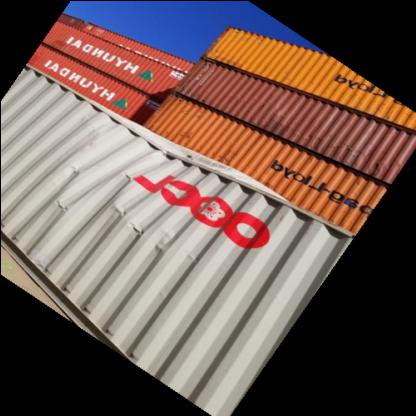Damage: (80, 108, 220, 268)
